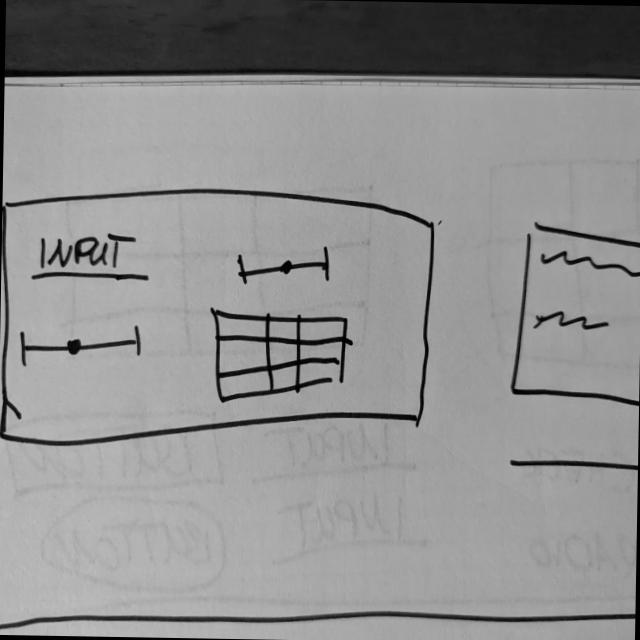container: (1, 176, 437, 455)
input: (28, 230, 152, 284)
select: (505, 427, 639, 482)
slider: (15, 321, 147, 375), (236, 243, 337, 289)
table: (209, 307, 352, 410)
textarea: (507, 221, 640, 415)
